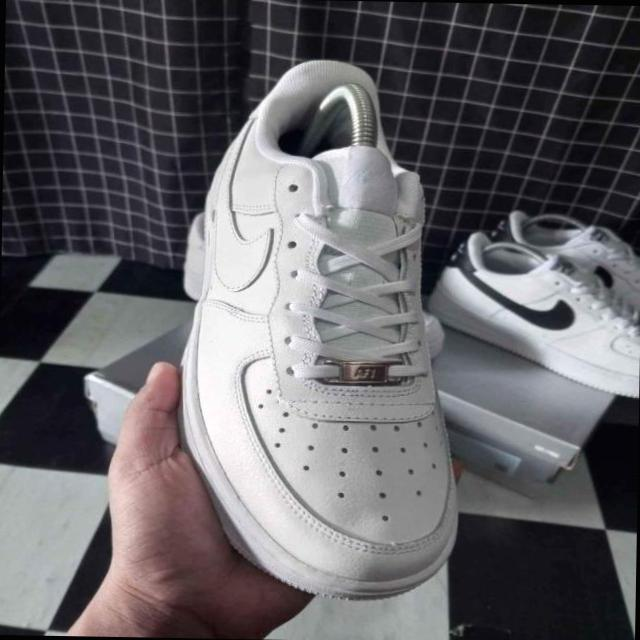nike_fake_airforce: (175, 74, 472, 611)
